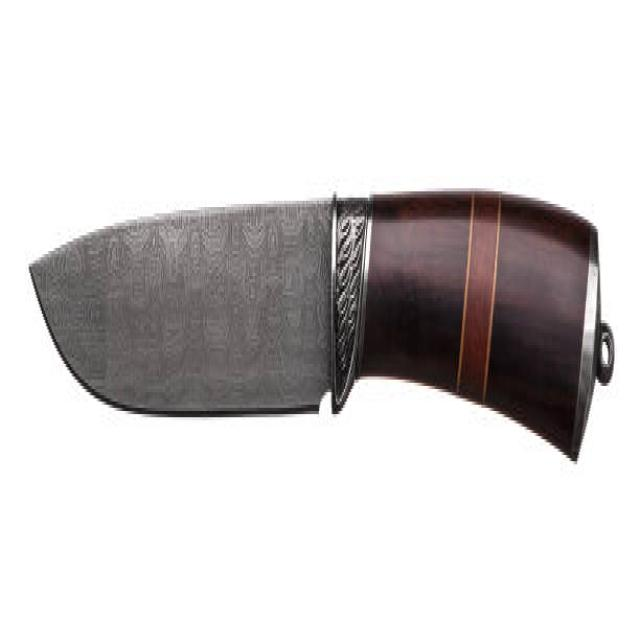knife: (19, 172, 622, 479)
